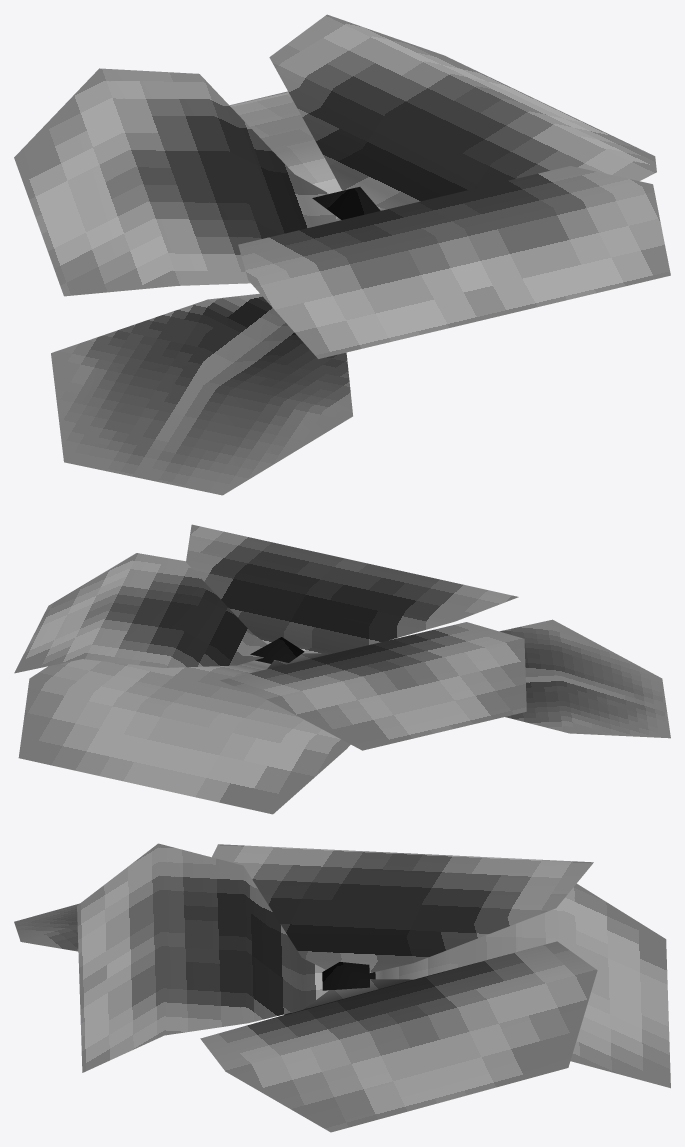
File: CapPltOrnamentRPansy.glb
The picture shows the model from 3 angles, top to bottom: view 1: azimuth 30°, elevation 25°; view 2: azimuth 150°, elevation 25°; view 3: azimuth 270°, elevation 25°; orthographic projection. The views are drawn at different scales.
Visible parts, largest first — view 1: pCylinder1__mPansyFlower, Leaf39__mPansyBody; view 2: pCylinder1__mPansyFlower, Leaf39__mPansyBody; view 3: pCylinder1__mPansyFlower, Leaf39__mPansyBody.
Part boxes in pixels (bbox=[...]): pCylinder1__mPansyFlower: bbox=[14, 14, 670, 358]; Leaf39__mPansyBody: bbox=[51, 293, 352, 495]; pCylinder1__mPansyFlower: bbox=[14, 524, 526, 814]; Leaf39__mPansyBody: bbox=[499, 619, 670, 738]; pCylinder1__mPansyFlower: bbox=[77, 843, 670, 1132]; Leaf39__mPansyBody: bbox=[14, 903, 297, 1014].
Bounding box in the file's own units: 3.07 × 0.7545 × 2.72.
2 materials, 2 textured.
